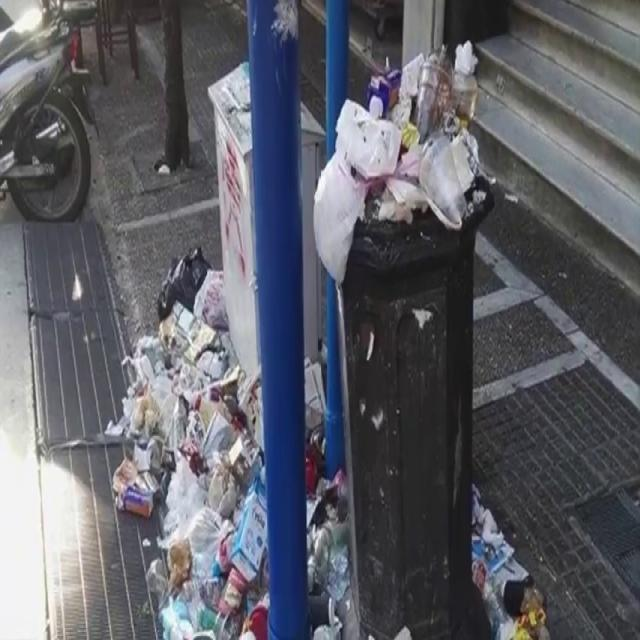garbage: (115, 296, 266, 640), (328, 59, 480, 228)
